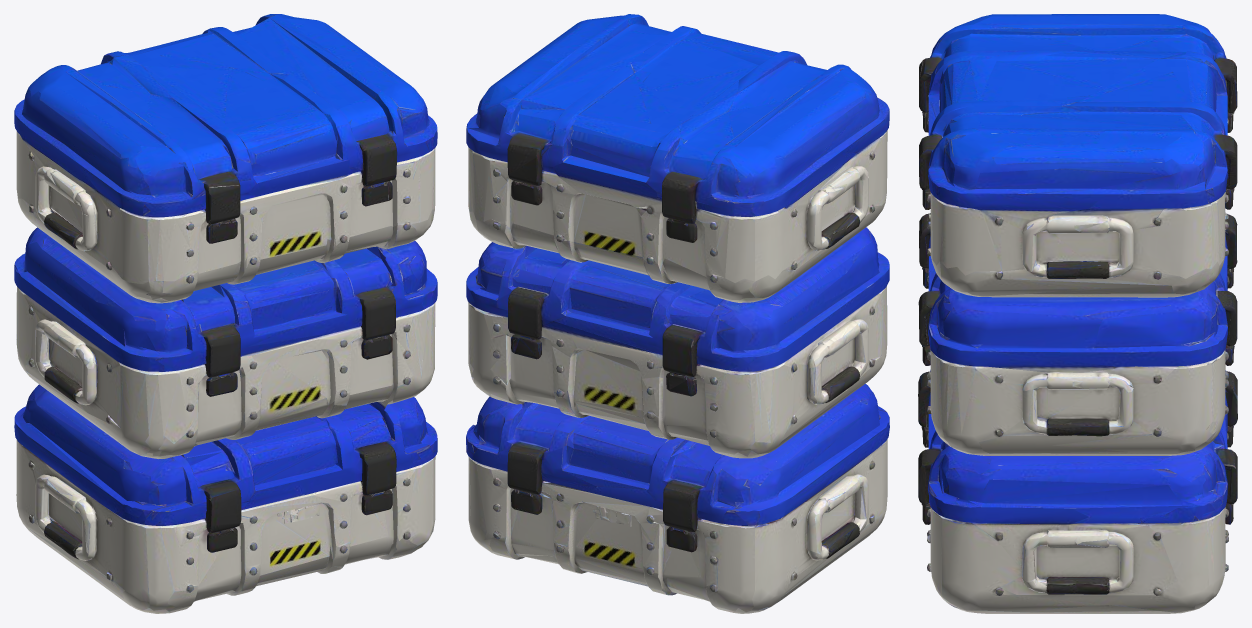
The model's file is files.glb.
3 views of the same model, side by side, from view 1: azimuth 30°, elevation 25°; view 2: azimuth 150°, elevation 25°; view 3: azimuth 270°, elevation 25° (orthographic).
Bounding box in the file's own units: 1.44 × 1.9 × 1.16.
Materials: 1 (1 with a texture image).
